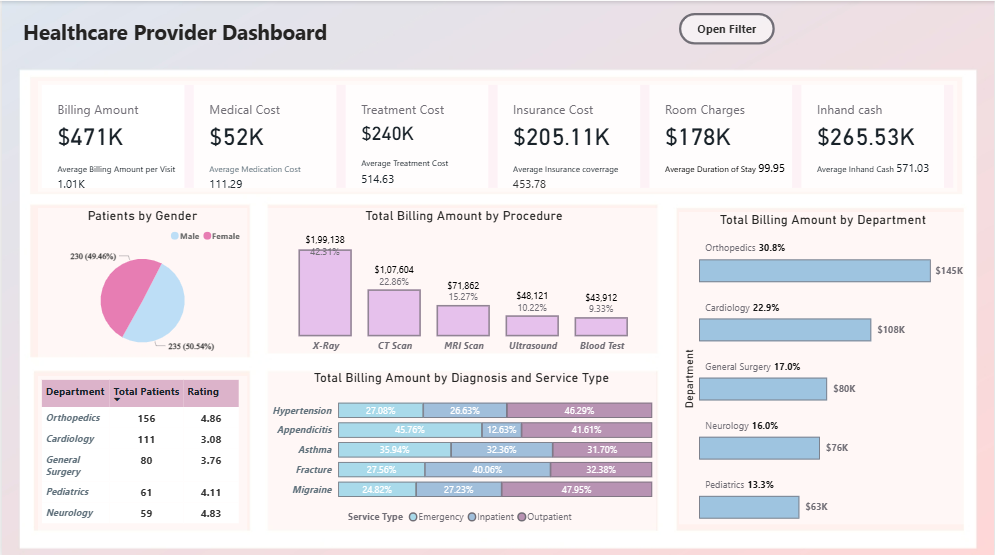

What the dashboard file says about the page in this screenshot:
{"tool":"powerbi","page":{"name":"Page 4","canvas":[1280,720],"ordinal":0},"visuals":[{"type":"cardVisual","fields":{"Data":["DaxCalculation.Total Billing Amount","DaxCalculation.Total Medication cost","DaxCalculation.Total Treatment Cost","DaxCalculation.Total Insurance Covered","DaxCalculation.Total Room charges","DaxCalculation.Inhand cash"]},"box":[46.8,103.2,1186.4,143.1],"z":0},{"type":"actionButton","title":"open","box":[873.9,15.4,123.6,40.7],"z":1000,"group":"g1"},{"type":"pieChart","title":" Patients by Gender","fields":{"Category":["patients.Gender"],"Y":["DaxCalculation.Total Patients"]},"box":[46.8,267,269.8,195.4],"z":1000},{"type":"pivotTable","fields":{"Rows":["departments.Department"],"Values":["DaxCalculation.Total Patients","DaxCalculation.AVG satisfication"]},"box":[46.8,484.5,269.8,199.6],"z":2000},{"type":"hundredPercentStackedBarChart","fields":{"Y":["DaxCalculation.Total Billing Amount"],"Category":["diagnoses.Diagnosis"],"Series":["visits.Service Type"]},"box":[341.3,476.2,502.4,207.8],"z":3000},{"type":"columnChart","fields":{"Category":["procedures.Procedure"],"Y":["DaxCalculation.Total Billing Amount"]},"box":[341.6,266.5,508.8,195.6],"z":4000},{"type":"clusteredBarChart","title":"Total Billing Amount by Department","fields":{"Category":["departments.Department"],"Y":["DaxCalculation.Blank Measure","DaxCalculation.Total Billing Amount"]},"box":[874,272.5,371.6,403.3],"z":5000},{"type":"textbox","title":"Healthcare Provider Dashboard","box":[21.5,16.1,435.6,64.5],"z":8000},{"type":"group","id":"g1","title":"buttons","box":[873.9,15.4,277.6,41.1],"z":9000}]}

Visuals, with their boxes in screenshot pixels (x1, y1, x2, y2), scaled from the page's 1280x720 canvas onto the 995x555 screenshot:
cardVisual - DaxCalculation.Total Billing Amount x DaxCalculation.Total Medication cost: {"left": 36, "top": 80, "right": 959, "bottom": 190}
"open" actionButton: {"left": 679, "top": 12, "right": 775, "bottom": 43}
" Patients by Gender" pieChart: {"left": 36, "top": 206, "right": 246, "bottom": 356}
pivotTable - departments.Department x DaxCalculation.Total Patients: {"left": 36, "top": 373, "right": 246, "bottom": 527}
hundredPercentStackedBarChart - DaxCalculation.Total Billing Amount x diagnoses.Diagnosis: {"left": 265, "top": 367, "right": 656, "bottom": 527}
columnChart - procedures.Procedure x DaxCalculation.Total Billing Amount: {"left": 266, "top": 205, "right": 661, "bottom": 356}
"Total Billing Amount by Department" clusteredBarChart: {"left": 679, "top": 210, "right": 968, "bottom": 521}
"Healthcare Provider Dashboard" textbox: {"left": 17, "top": 12, "right": 355, "bottom": 62}
"buttons" group: {"left": 679, "top": 12, "right": 895, "bottom": 44}
